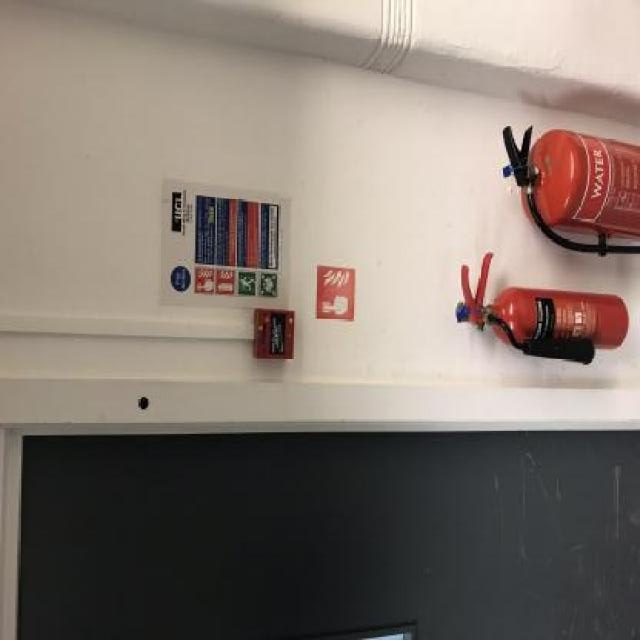fire extinguisher: (457, 251, 629, 364), (500, 126, 640, 252)
